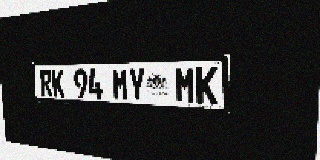4: (87, 69, 103, 99)
9: (73, 69, 88, 99)
K: (196, 66, 218, 105), (51, 69, 65, 97)
M: (175, 67, 195, 104), (112, 68, 129, 100)
R: (40, 69, 53, 97)
Y: (128, 68, 146, 101)
